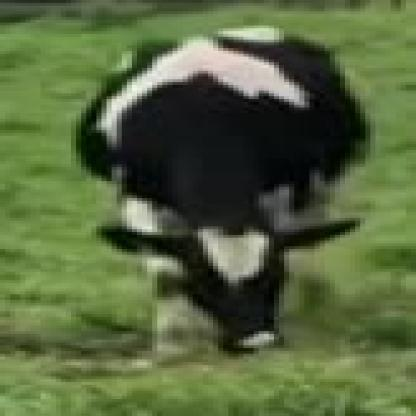cow: (73, 27, 367, 358)
